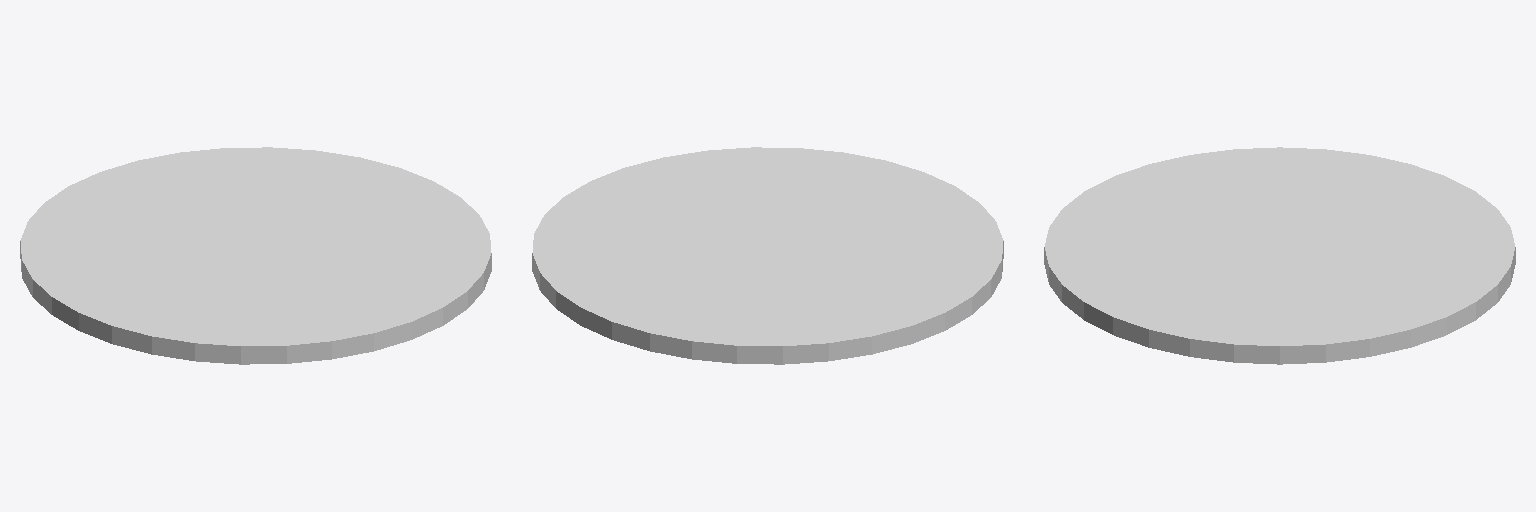
robot.urdf — round_table:
<?xml version="1.0"?>
<robot name="round_table">
  <link name="table_surface_center"/>
  <link name="table_top">
    <inertial>
      <mass value="1.0" />
      <inertia ixx="0.0225" ixy="0" ixz="0" iyy="0.0225" iyz="0" izz="0.0450" />
    </inertial>
    <visual>
      <geometry>
        <cylinder length="0.017" radius="0.2" />
      </geometry>
      <material name="White">
        <color rgba="0.9 0.9 0.9 1.0"/>
      </material>
    </visual>
    <collision>
      <geometry>
        <cylinder length="0.017" radius="0.19" />
      </geometry>
    </collision>
   </link>
   <joint name="table_top_joint" type="fixed">
     <origin xyz="0 0 -0.0085"/>
     <parent link="table_surface_center"/>
     <child link="table_top"/>
   </joint>
</robot>

--- Render facts (derived) ---
Views: 3 orthographic renders of the robot side by side, from view 1: azimuth 30°, elevation 25°; view 2: azimuth 150°, elevation 25°; view 3: azimuth 270°, elevation 25°.
Model round_table with 2 links and 1 joints (1 fixed), rooted at table_surface_center, posed all joints at 0.
Links seen in each view (by area): view 1: table_top; view 2: table_top; view 3: table_top.
Boxes of the visible links, <box> form: table_top: <box>20,147,491,364</box>; table_top: <box>532,147,1003,364</box>; table_top: <box>1044,147,1515,364</box>.
Bounding box of the posed robot: 0.4 × 0.4 × 0.017 m (x, y, z).
Geometry: primitives only (box / cylinder / sphere), no mesh files.